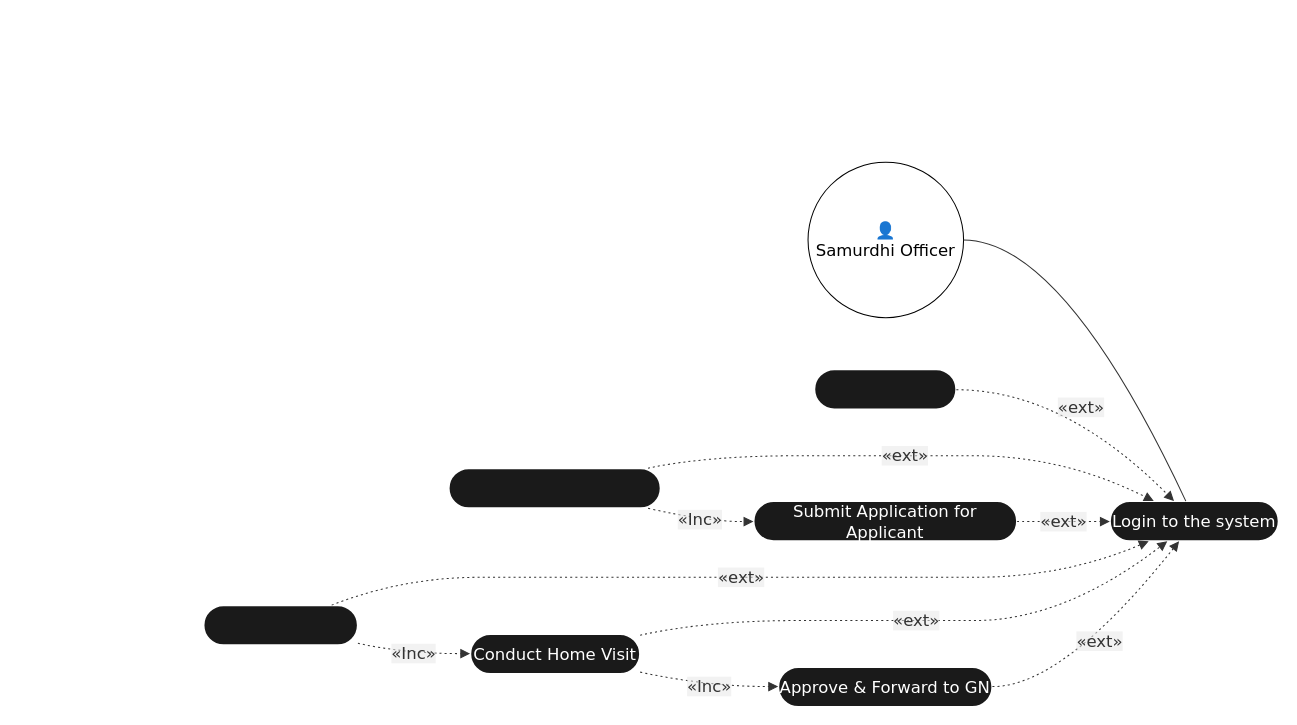
This 1297x725 diagram has some shape labels left out. Each missing label, with the centre of its shape:
Create Applicant Account: the point at 554,488
View Applications: the point at 280,625
View Dashboard: the point at 885,389
